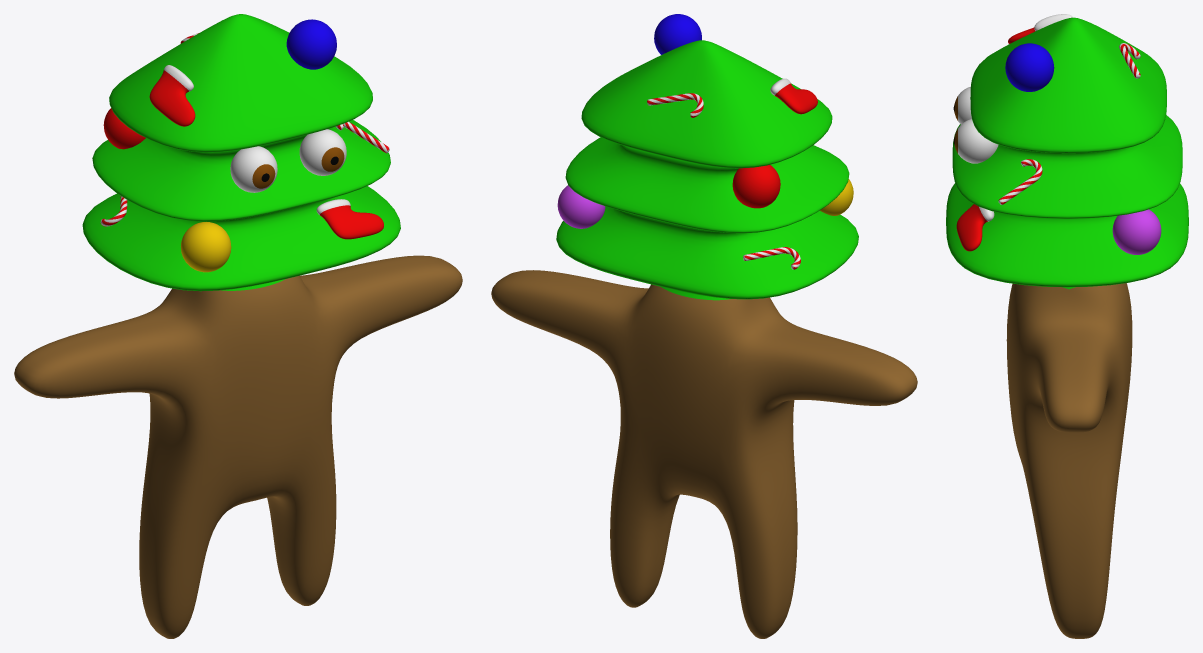
The model's file is Nortree.fbx.
The picture shows the model from 3 angles, left to right: view 1: azimuth 30°, elevation 25°; view 2: azimuth 150°, elevation 25°; view 3: azimuth 270°, elevation 25°; orthographic projection. The views are drawn at different scales.
Parts seen in each view (by area): view 1: Cube, Sphere.001, Sphere.004, Sphere.003, Calcetin.001, Calcetin, Sphere.002; view 2: Cube, Sphere.002, Sphere.003, Sphere, Calcetin.001; view 3: Cube, Sphere.003, Sphere, Sphere.001, Calcetin, Baston, Calcetin.001, Baston.001.
Part boxes in pixels (<box>): Cube: <box>14,14,462,638</box>; Sphere.001: <box>230,129,346,192</box>; Sphere.004: <box>180,222,231,272</box>; Sphere.003: <box>286,19,336,69</box>; Calcetin.001: <box>149,65,195,126</box>; Calcetin: <box>316,199,383,239</box>; Sphere.002: <box>103,108,145,149</box>; Cube: <box>491,40,917,638</box>; Sphere.002: <box>732,165,780,208</box>; Sphere.003: <box>654,14,701,54</box>; Sphere: <box>557,185,605,228</box>; Calcetin.001: <box>770,78,817,114</box>; Cube: <box>946,17,1188,638</box>; Sphere.003: <box>1005,43,1054,91</box>; Sphere: <box>1112,209,1161,254</box>; Sphere.001: <box>953,86,998,163</box>; Calcetin: <box>956,204,994,251</box>; Baston: <box>998,159,1042,204</box>; Calcetin.001: <box>1008,14,1072,43</box>; Baston.001: <box>1119,43,1140,78</box>.
Size of the model in its own units: 484 by 642 by 241.
